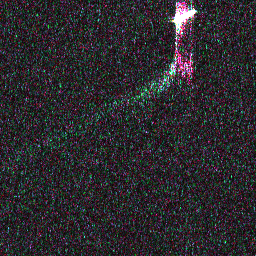ship: (172, 6, 199, 29)
